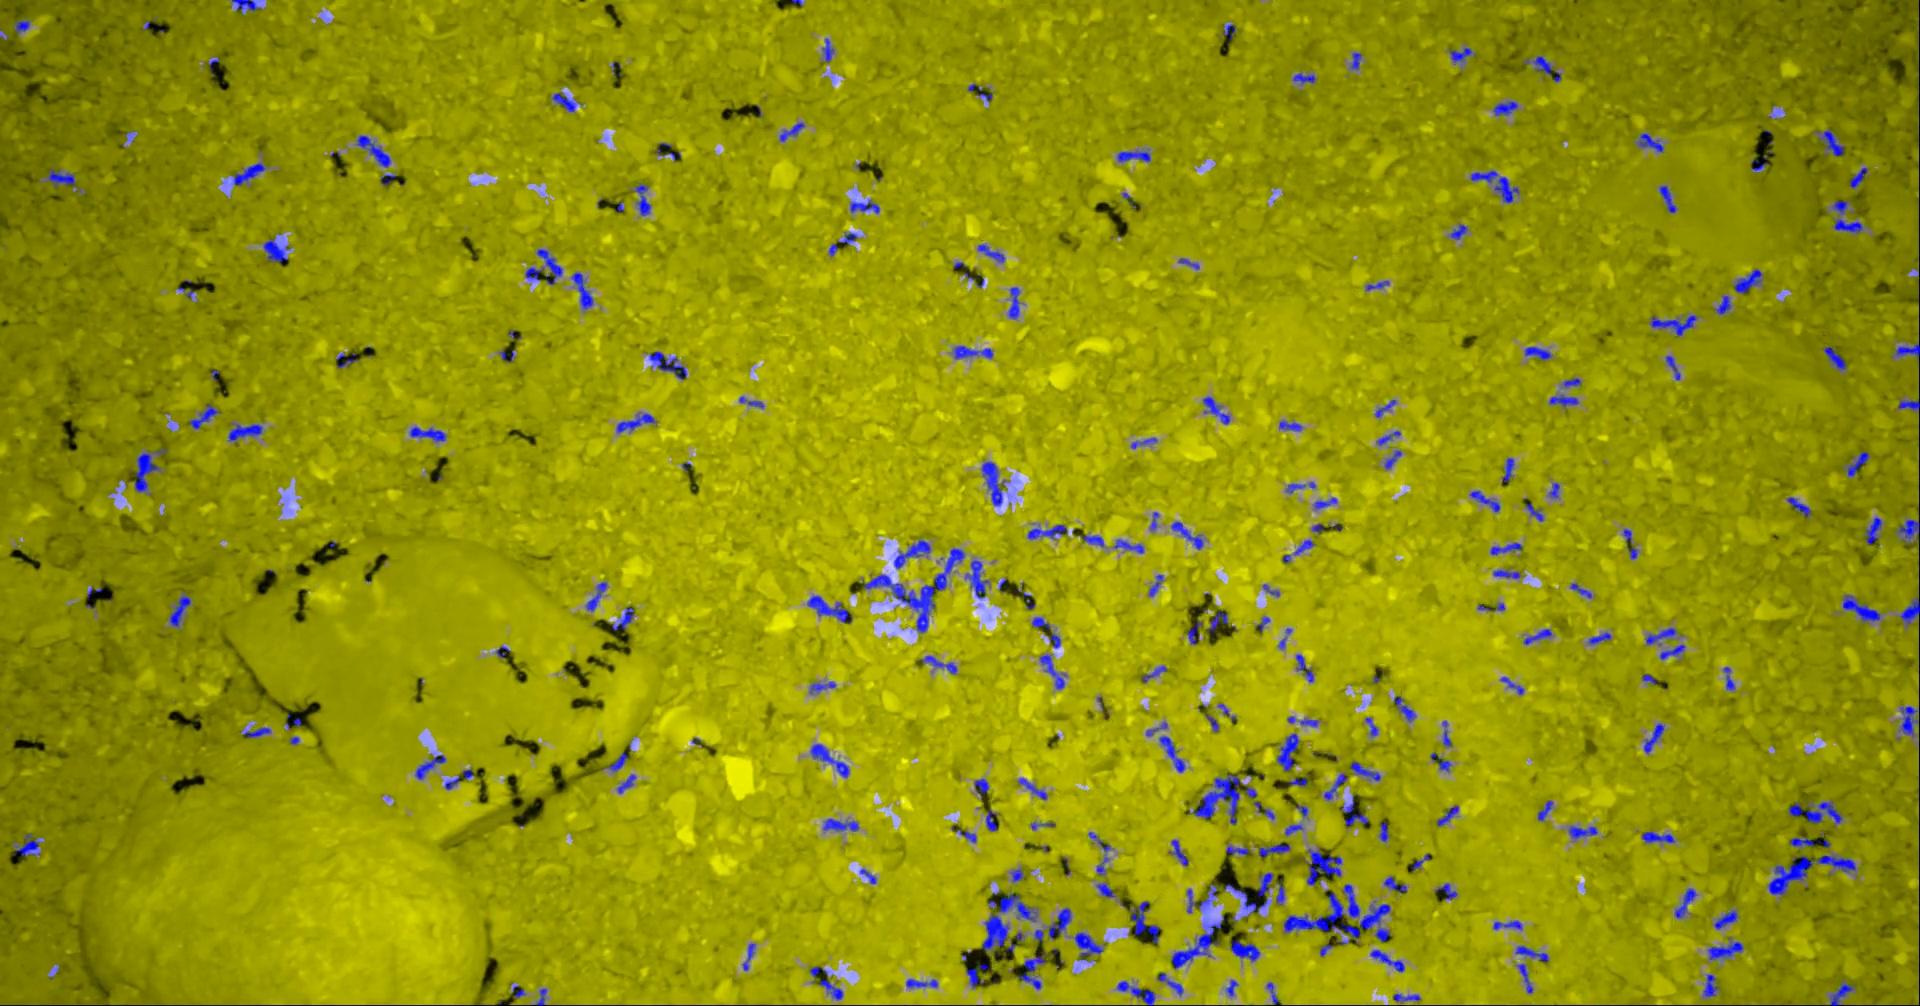ant: (1170, 915, 1224, 968), (1189, 774, 1239, 823), (1470, 170, 1519, 202), (988, 892, 1036, 921), (1224, 883, 1267, 915), (810, 743, 848, 777), (1129, 901, 1159, 942), (1305, 848, 1341, 884), (806, 594, 851, 622), (1788, 801, 1843, 823), (1017, 951, 1046, 989), (356, 135, 390, 166), (893, 539, 930, 568), (809, 967, 842, 998), (649, 351, 686, 379), (982, 461, 1004, 506), (1650, 315, 1697, 337), (133, 452, 159, 492), (536, 248, 563, 285), (1843, 594, 1879, 621), (982, 913, 1008, 950), (1088, 831, 1110, 875), (1170, 521, 1203, 549), (1116, 981, 1154, 1005), (1039, 654, 1065, 688), (1159, 735, 1183, 772), (1276, 733, 1299, 771), (1340, 795, 1368, 826), (1186, 884, 1217, 912), (1528, 55, 1559, 81), (965, 560, 987, 598), (1370, 949, 1404, 972), (1074, 932, 1102, 960), (169, 591, 190, 626), (232, 163, 265, 185), (616, 413, 655, 432), (571, 272, 592, 309), (1203, 396, 1229, 424), (189, 403, 218, 428), (1817, 130, 1844, 156), (1733, 268, 1761, 293), (415, 754, 444, 779), (1707, 940, 1743, 959), (1048, 907, 1070, 937), (263, 236, 290, 262), (1674, 888, 1697, 917), (919, 655, 956, 673), (1156, 972, 1183, 995), (1017, 777, 1046, 799), (46, 168, 76, 188), (585, 580, 606, 611), (1643, 723, 1663, 753), (1230, 940, 1258, 962), (1469, 490, 1498, 511), (1350, 761, 1380, 780), (1323, 774, 1346, 799), (13, 833, 39, 855), (444, 768, 472, 789), (227, 423, 262, 439), (1900, 706, 1919, 735), (1823, 345, 1846, 370), (611, 606, 634, 630), (1846, 451, 1868, 476), (1393, 696, 1415, 721), (1829, 983, 1854, 1005), (1342, 884, 1359, 917), (1515, 945, 1548, 962), (409, 426, 444, 441), (977, 243, 1004, 262), (1027, 525, 1065, 539), (1644, 627, 1676, 644), (1897, 520, 1919, 544), (1789, 835, 1830, 847), (1900, 596, 1919, 622), (952, 345, 992, 358), (1787, 495, 1810, 517), (966, 963, 987, 987), (778, 122, 804, 141), (1638, 133, 1663, 152), (635, 183, 650, 215), (1168, 840, 1187, 865), (1658, 185, 1676, 212), (1295, 654, 1313, 681), (1523, 627, 1550, 644), (968, 83, 992, 102), (551, 91, 575, 111), (1713, 909, 1737, 929), (655, 142, 681, 160), (823, 818, 858, 831), (1206, 611, 1227, 633), (1436, 805, 1458, 826), (1116, 150, 1150, 163), (1258, 843, 1289, 857), (1140, 666, 1166, 682), (607, 751, 627, 771), (850, 199, 879, 213), (1832, 218, 1862, 232), (1623, 528, 1637, 558), (1114, 539, 1143, 553), (1517, 963, 1531, 992), (1865, 517, 1881, 544), (1658, 644, 1685, 659), (1500, 676, 1523, 694), (1255, 873, 1272, 895), (1434, 882, 1457, 899), (1895, 343, 1919, 359), (742, 942, 756, 970), (1492, 100, 1517, 116), (1430, 752, 1450, 771), (1849, 166, 1867, 188), (1374, 399, 1396, 417), (1490, 542, 1523, 554), (1641, 831, 1674, 842), (1524, 345, 1550, 359), (231, 0, 260, 13), (1549, 394, 1578, 406), (1568, 826, 1597, 838), (1665, 354, 1680, 379), (1187, 620, 1203, 644), (616, 774, 635, 793), (1253, 801, 1274, 819), (1383, 876, 1406, 892), (1449, 47, 1470, 62), (1293, 539, 1314, 554), (1702, 974, 1717, 996), (1008, 286, 1018, 318), (905, 978, 937, 988), (1377, 431, 1399, 445), (1525, 503, 1543, 521), (337, 352, 357, 367), (1285, 481, 1316, 492), (1537, 800, 1552, 821), (1501, 457, 1514, 481), (809, 681, 836, 692), (1148, 574, 1162, 596), (1570, 583, 1591, 597), (1750, 154, 1768, 170), (1384, 450, 1401, 467), (1130, 437, 1156, 448), (1266, 982, 1279, 1005), (243, 727, 270, 737), (974, 779, 988, 799), (524, 265, 543, 279), (1716, 295, 1730, 314), (822, 38, 833, 61), (1314, 497, 1337, 508), (1723, 666, 1735, 688), (738, 396, 763, 406), (1083, 533, 1103, 546), (1441, 720, 1451, 746), (1450, 224, 1467, 239), (1204, 713, 1218, 730), (1493, 920, 1521, 929), (1589, 633, 1610, 644), (985, 808, 997, 829), (1291, 72, 1316, 83), (1365, 279, 1389, 290), (1277, 420, 1302, 431), (956, 829, 975, 842), (1493, 569, 1520, 578), (1275, 878, 1284, 904), (837, 232, 857, 244), (1096, 883, 1114, 895), (1897, 399, 1919, 409), (1031, 617, 1050, 629), (1365, 716, 1377, 735), (14, 19, 29, 33), (1222, 24, 1236, 39), (1832, 199, 1848, 213), (1392, 993, 1420, 1001), (1284, 823, 1302, 835), (1225, 845, 1248, 854), (1561, 377, 1580, 387), (1379, 821, 1388, 842), (1350, 52, 1361, 69), (1048, 633, 1060, 647), (1011, 868, 1023, 882), (510, 984, 524, 997), (380, 174, 395, 185), (1225, 979, 1237, 995), (1299, 718, 1317, 727), (1288, 777, 1305, 786), (1549, 481, 1559, 497), (1917, 58, 1919, 116)
